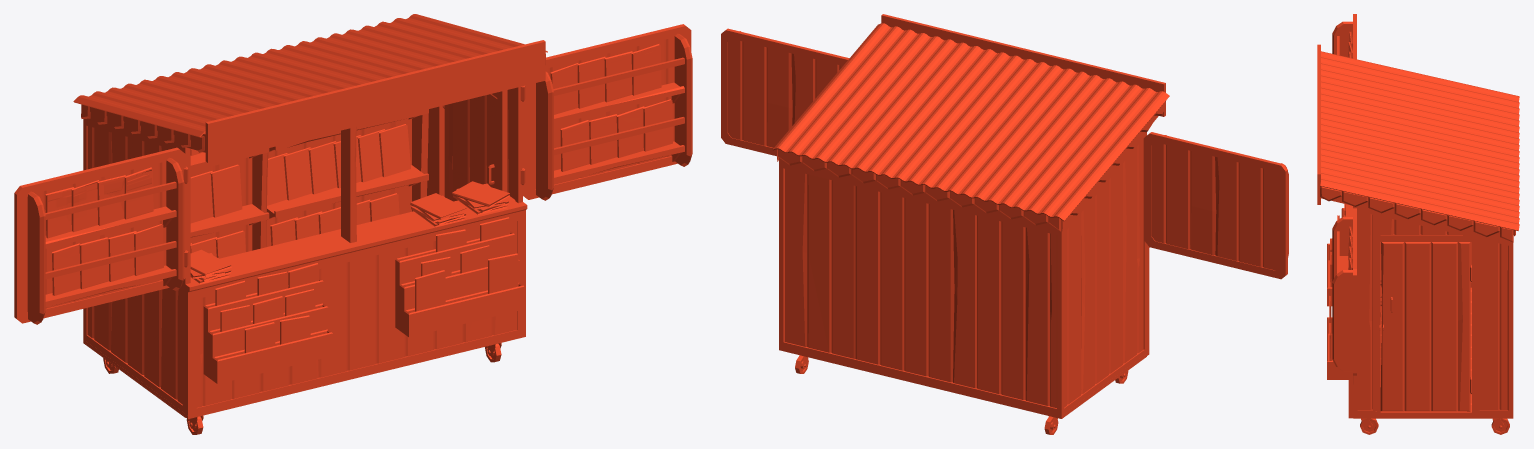
The model's file is SM_Newspaper_Shop_City.fbx.
The picture shows the model from 3 angles, left to right: view 1: azimuth 30°, elevation 25°; view 2: azimuth 150°, elevation 25°; view 3: azimuth 270°, elevation 25°; orthographic projection. The views are drawn at different scales.
Visible parts, largest first — view 1: SM_Newspaper_Shop_City; view 2: SM_Newspaper_Shop_City; view 3: SM_Newspaper_Shop_City.
Part boxes in pixels (x1,y1,x2,y2): SM_Newspaper_Shop_City: (14, 14, 692, 434); SM_Newspaper_Shop_City: (721, 14, 1288, 434); SM_Newspaper_Shop_City: (1317, 14, 1519, 434).
Bounding box in the file's own units: 6.35 × 3.06 × 2.1.
